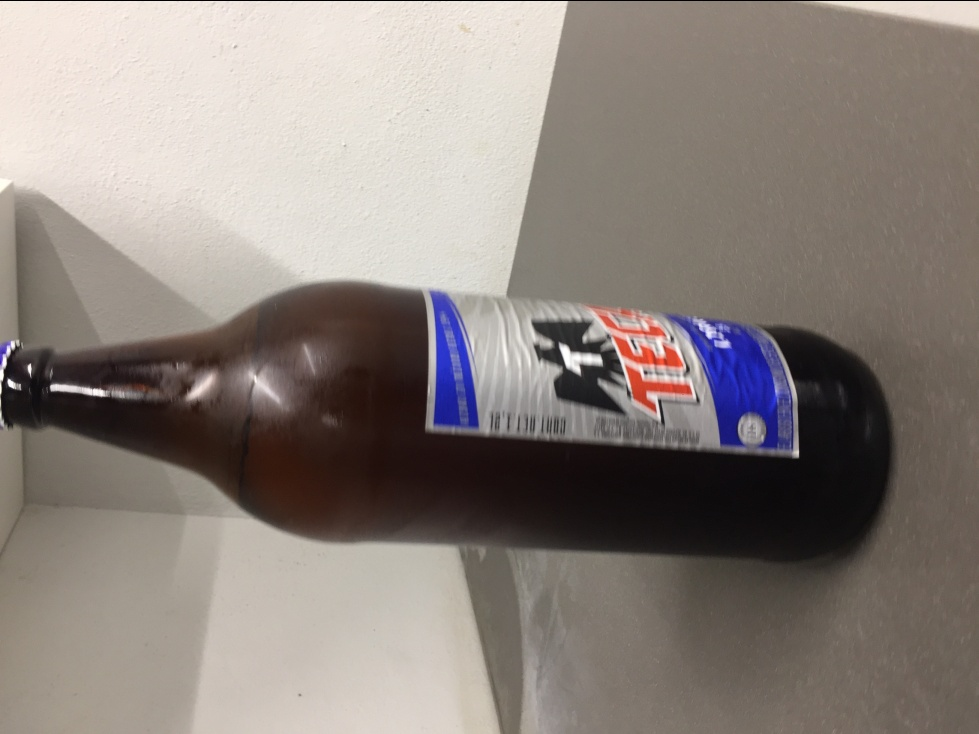tecateC: (6, 276, 891, 559)
